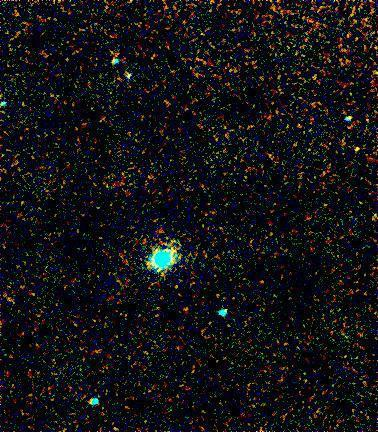star: (161, 231, 191, 261)
